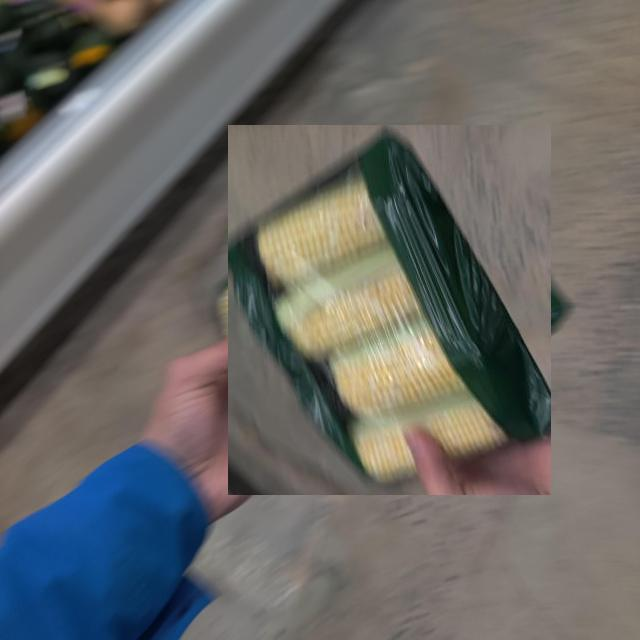Corn: (228, 125, 550, 495)
